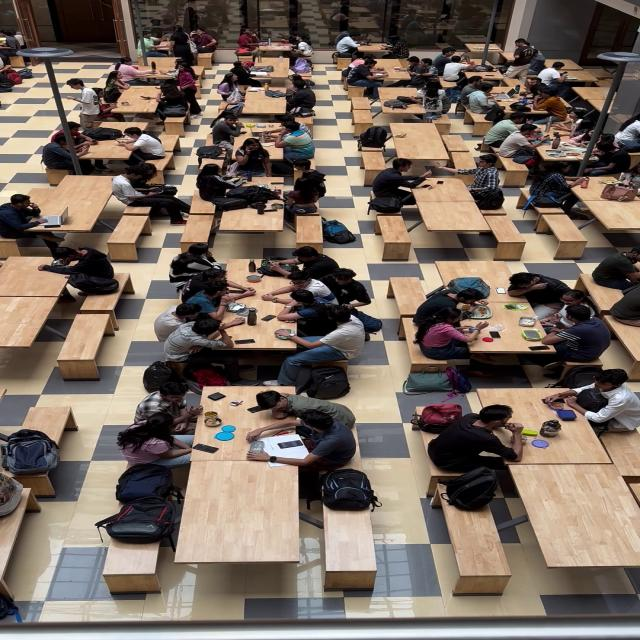Occupied: (110, 371, 373, 469), (179, 244, 384, 357), (403, 365, 640, 462), (421, 267, 617, 353), (436, 74, 626, 159), (205, 129, 334, 212), (40, 117, 172, 169), (455, 38, 588, 88), (40, 239, 134, 306), (0, 428, 73, 512), (107, 462, 179, 544), (208, 71, 316, 118), (127, 18, 221, 69), (348, 44, 446, 92), (373, 149, 442, 213), (4, 188, 76, 244), (115, 168, 180, 219), (458, 156, 518, 211), (447, 462, 506, 517), (332, 18, 405, 62), (238, 19, 313, 60), (601, 242, 640, 320), (320, 467, 390, 510), (360, 118, 416, 155), (1, 21, 34, 70)
Unoccupied: (525, 463, 640, 572), (186, 471, 305, 567), (454, 519, 510, 586), (324, 512, 375, 572), (2, 297, 51, 352), (4, 254, 59, 300), (74, 316, 117, 369), (212, 212, 282, 243), (587, 431, 640, 469), (550, 210, 594, 253), (24, 398, 81, 431), (107, 220, 154, 255), (107, 548, 166, 575), (486, 214, 528, 250), (429, 216, 490, 240), (296, 210, 331, 251), (601, 204, 640, 236), (380, 214, 416, 244), (182, 217, 215, 245)
